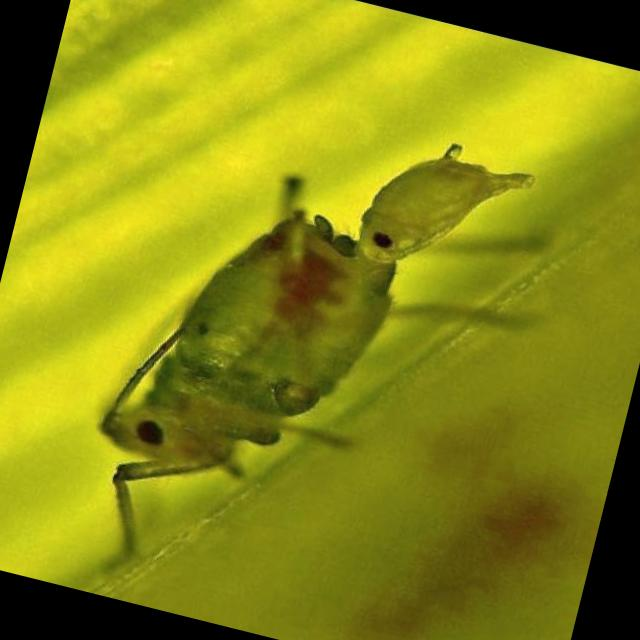aphid: (70, 165, 448, 594), (330, 91, 568, 320)
